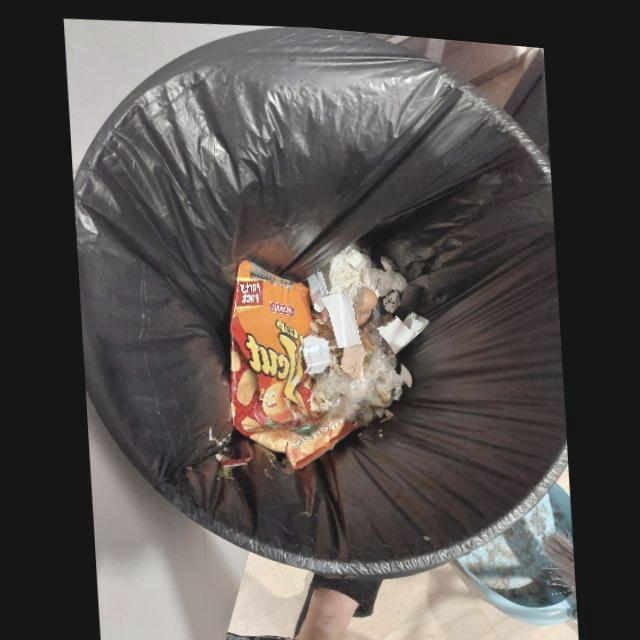food_wrapper: (229, 256, 354, 463)
paper: (306, 265, 361, 341), (328, 244, 407, 290)
